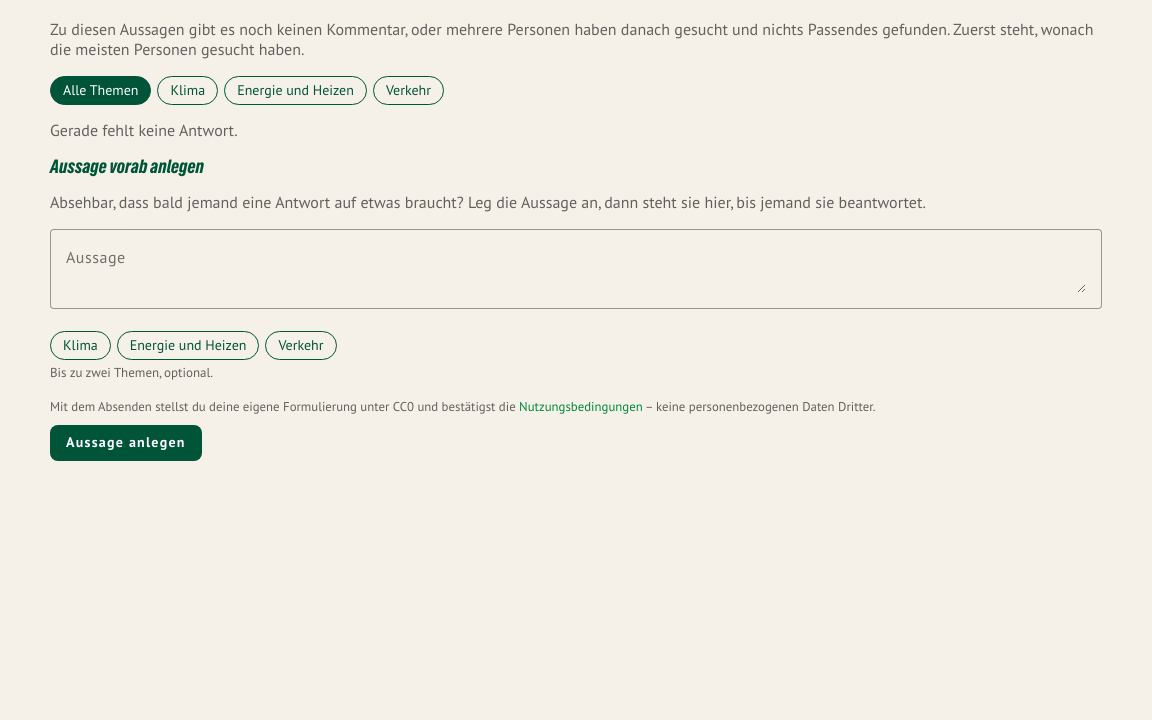
HierFehltEineAntwortComponent › Aussage vorab anlegen › legt die Aussage an und lädt die Liste neu
Step 1. Type "  Das Heizungsgesetz enteignet uns  " into the text box named "aussage" → (576, 269), box [66, 245, 1086, 293]
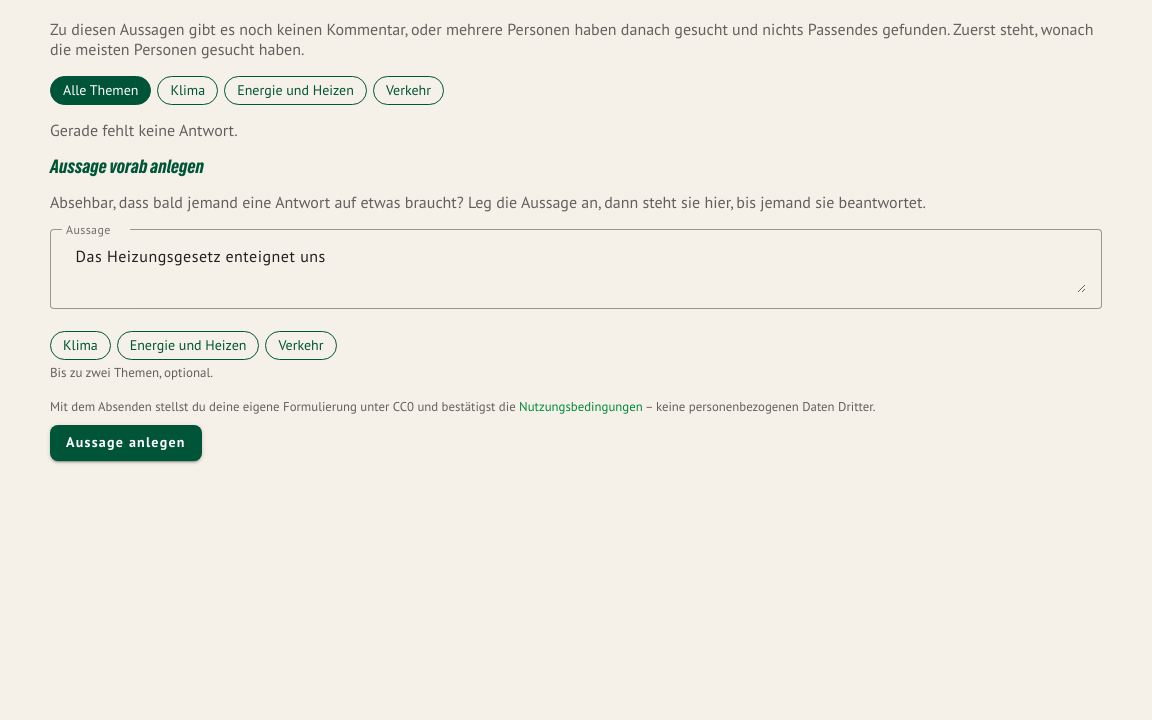
Step 2. Click the button with class "aussage-anlegen" → (126, 443), box [50, 425, 202, 461]
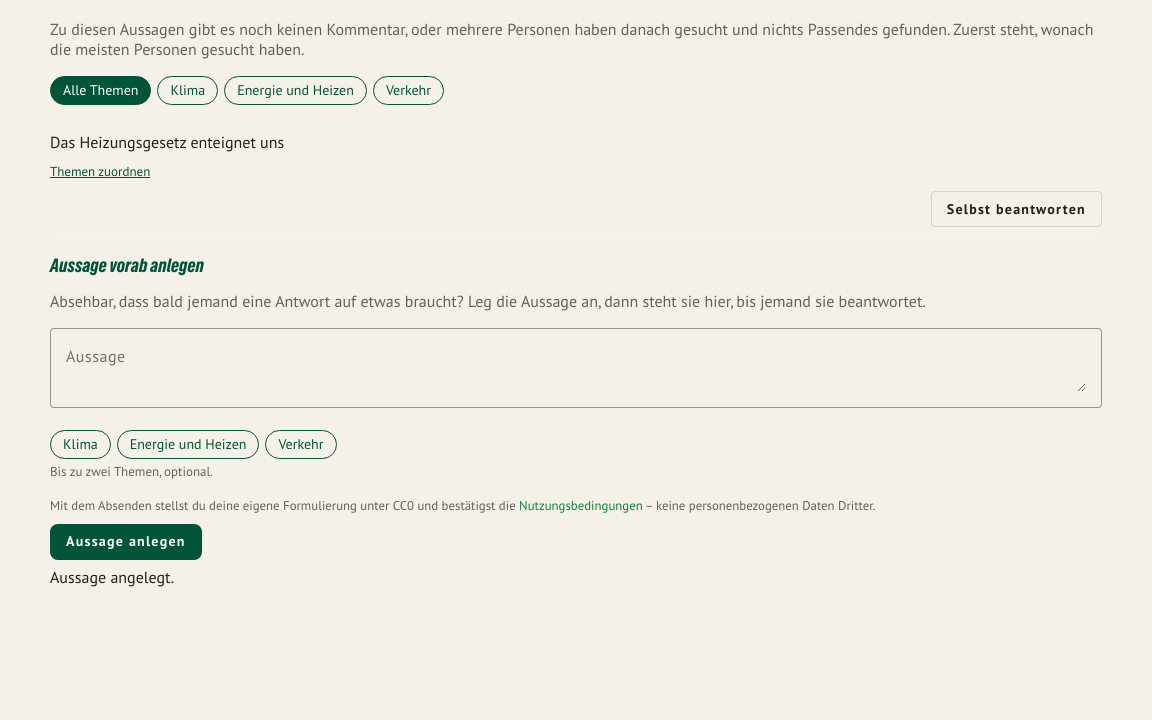
expect the text "Aussage angelegt" is shown: met, box [50, 569, 174, 587]
expect the text box named "aussage" is empty: met, box [66, 344, 1086, 392]
